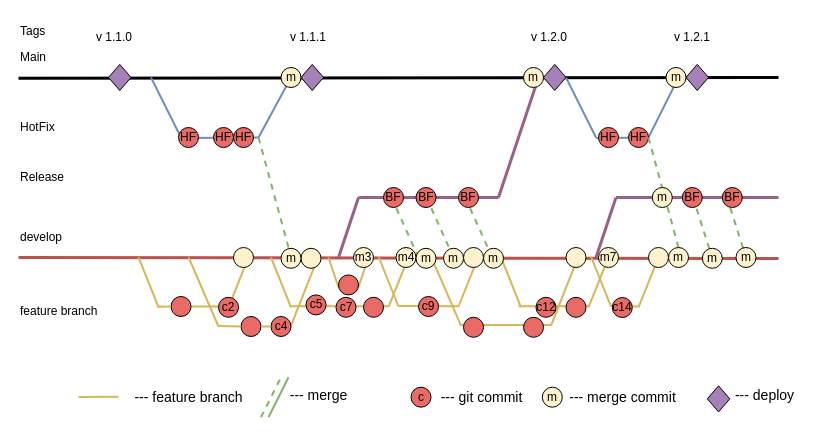
This 817x436 diagram has some shape labels left out. The shapes that lost their labels are listed below. From the top down, each one's centre as x and y in pixels, then its label:
At point (243, 257): "m1".
At point (310, 257): "m2".
At point (473, 257): "m5".
At point (575, 257): "m6".
At point (658, 257): "m8".
At point (348, 284): "c6".
At point (180, 306): "c1".
At point (250, 326): "c3".
At point (373, 306): "c8".
At point (473, 326): "c10".
At point (533, 326): "c11".
At point (575, 306): "c13".
